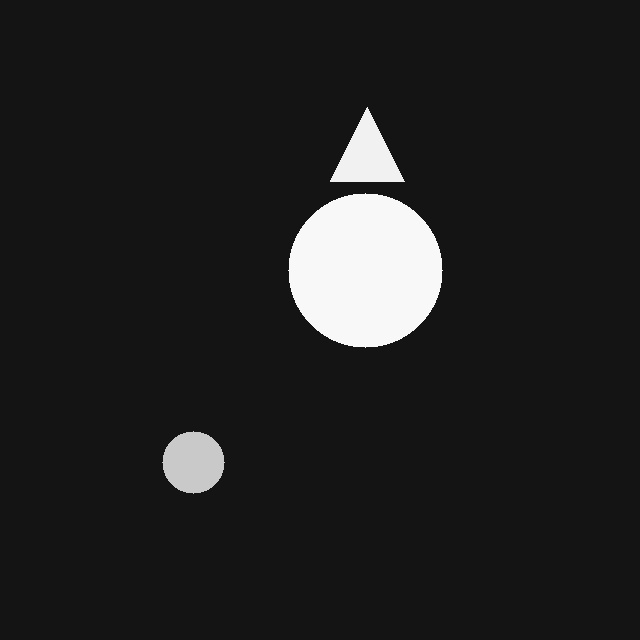circle: (288, 193, 442, 347), (162, 431, 224, 493)
triangle: (330, 107, 404, 181)
